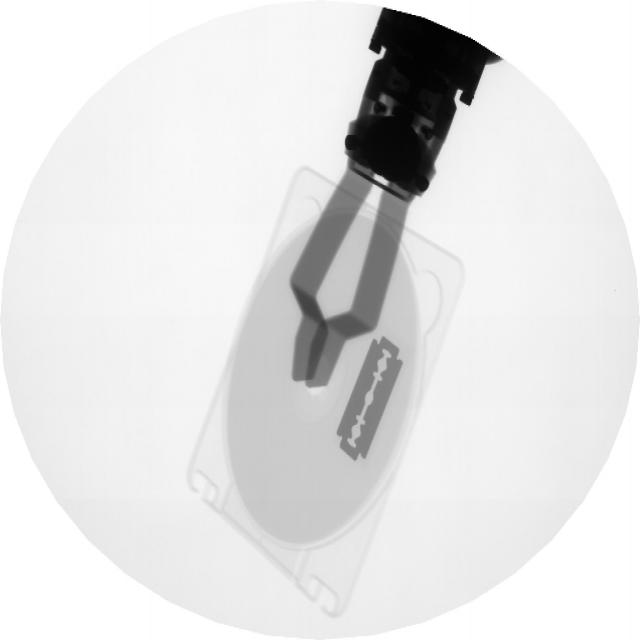BLADE: (333, 329, 411, 472)
